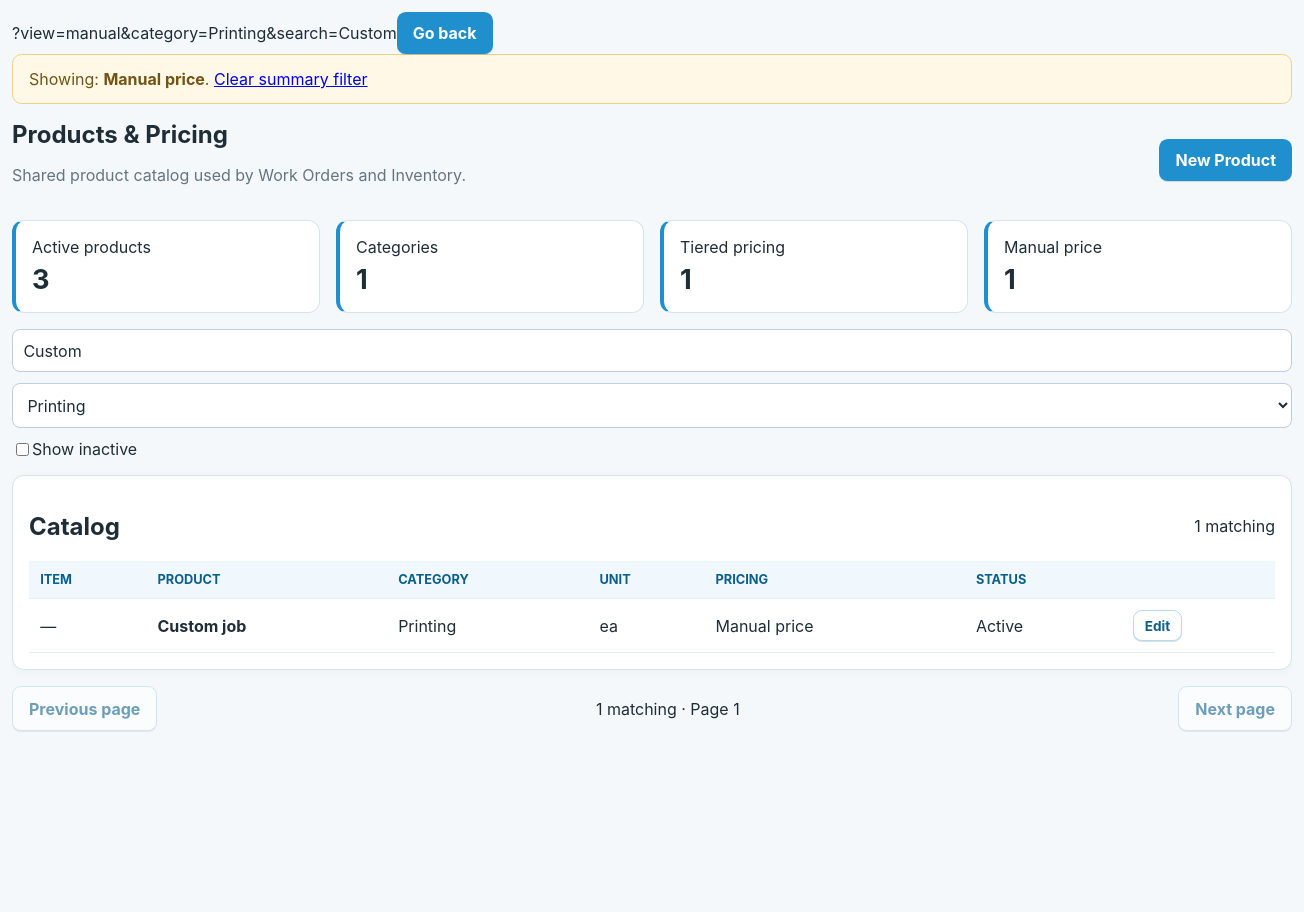
it: loads bookmarked filters and renders the category drilldown
The width and height of the screenshot is (1304, 912).
Expected: the text "Custom job" is shown, x1=158 y1=616 x2=246 y2=636
Expected: the field with placeholder "Search item code, product, or category…" holds "Custom", x1=12 y1=329 x2=1292 y2=372
Click the link "Categories 1" at point(397, 247), box x1=336 y1=220 x2=644 y2=313
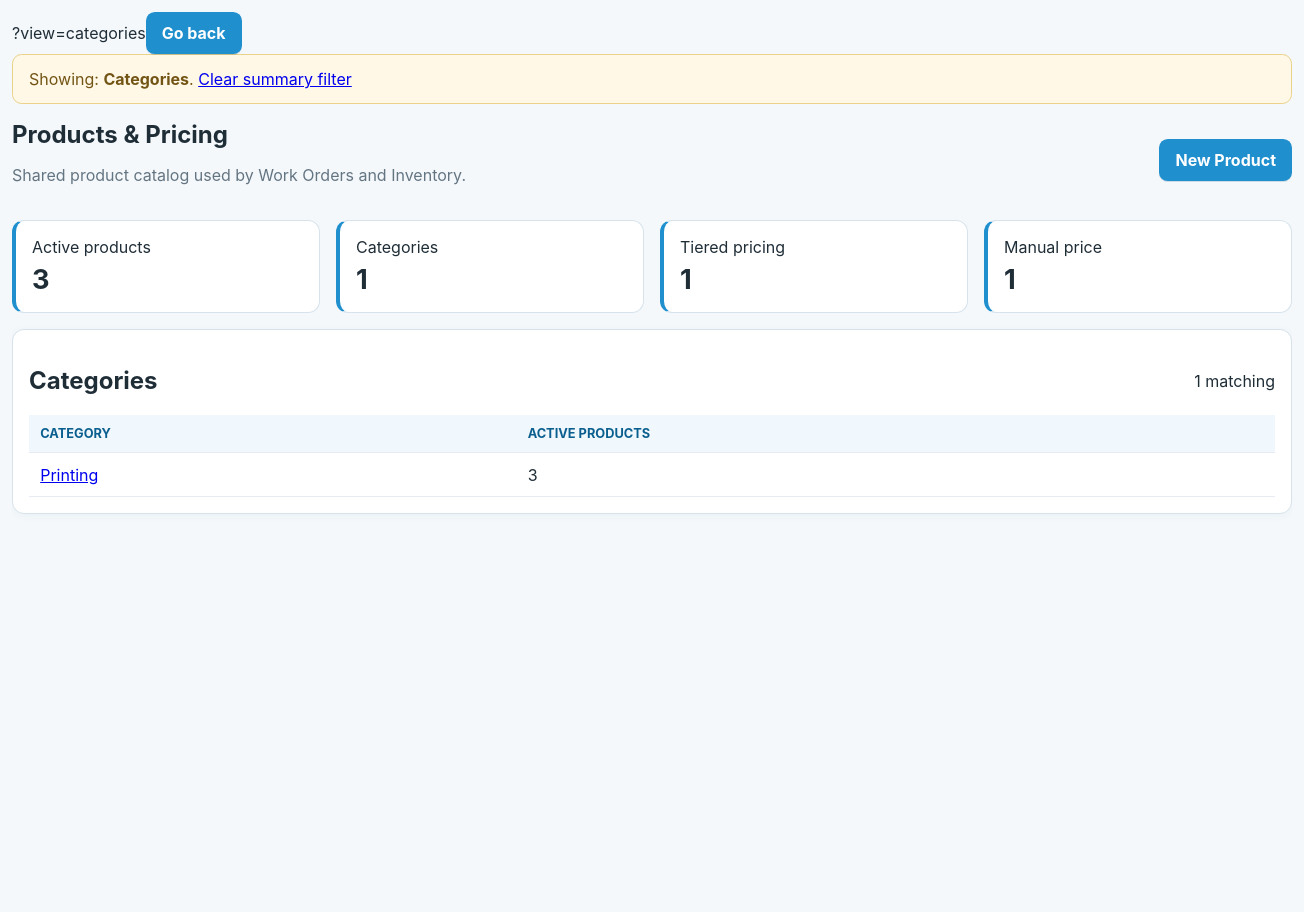
Result: the column heading "Active products" is shown at x1=516 y1=415 x2=1275 y2=453
Click the link "Printing" at point(69, 474), box x1=40 y1=464 x2=98 y2=484
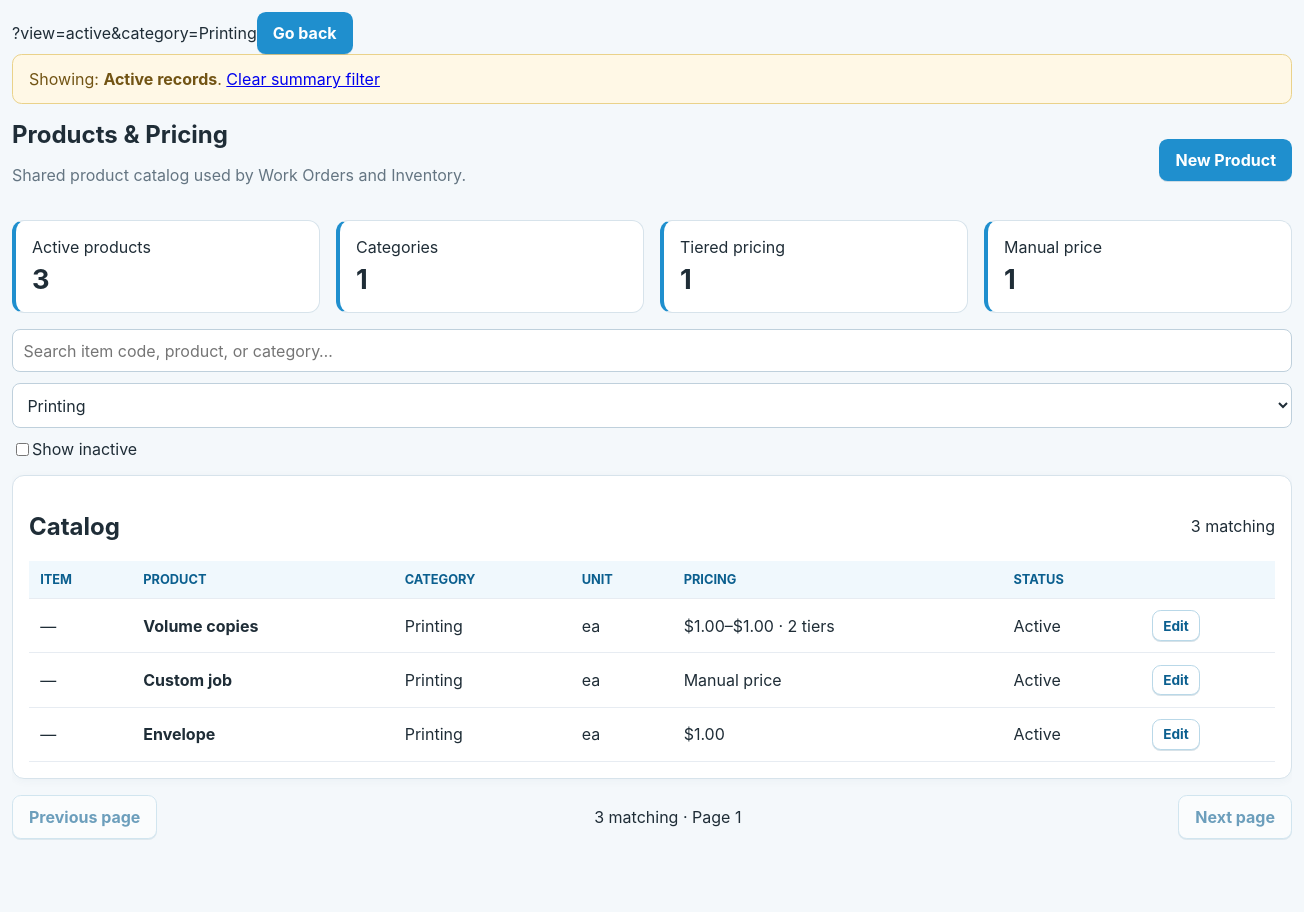
Result: the dropdown named "Catalog category filter" shows "Printing" at x1=12 y1=383 x2=1292 y2=428
Result: the text "3 matching" is shown at x1=1191 y1=516 x2=1275 y2=536
Result: the text named "Current URL" reads "?view=active&category=Printing" at x1=12 y1=23 x2=257 y2=43
